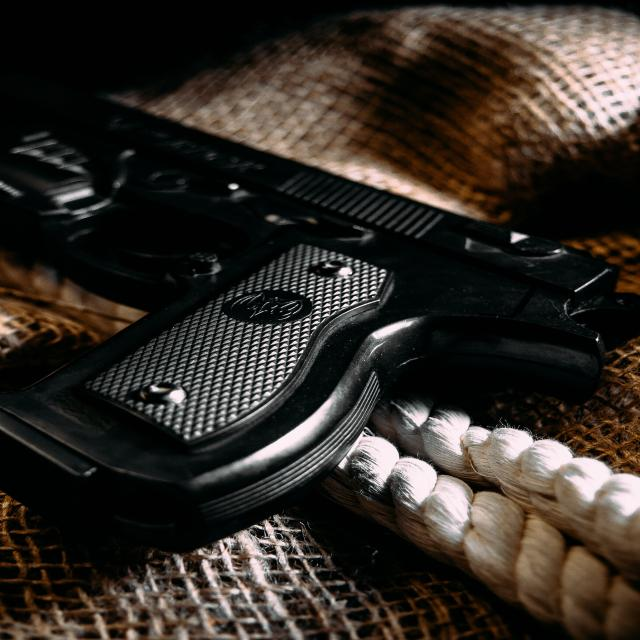HandGun: (0, 76, 640, 554)
